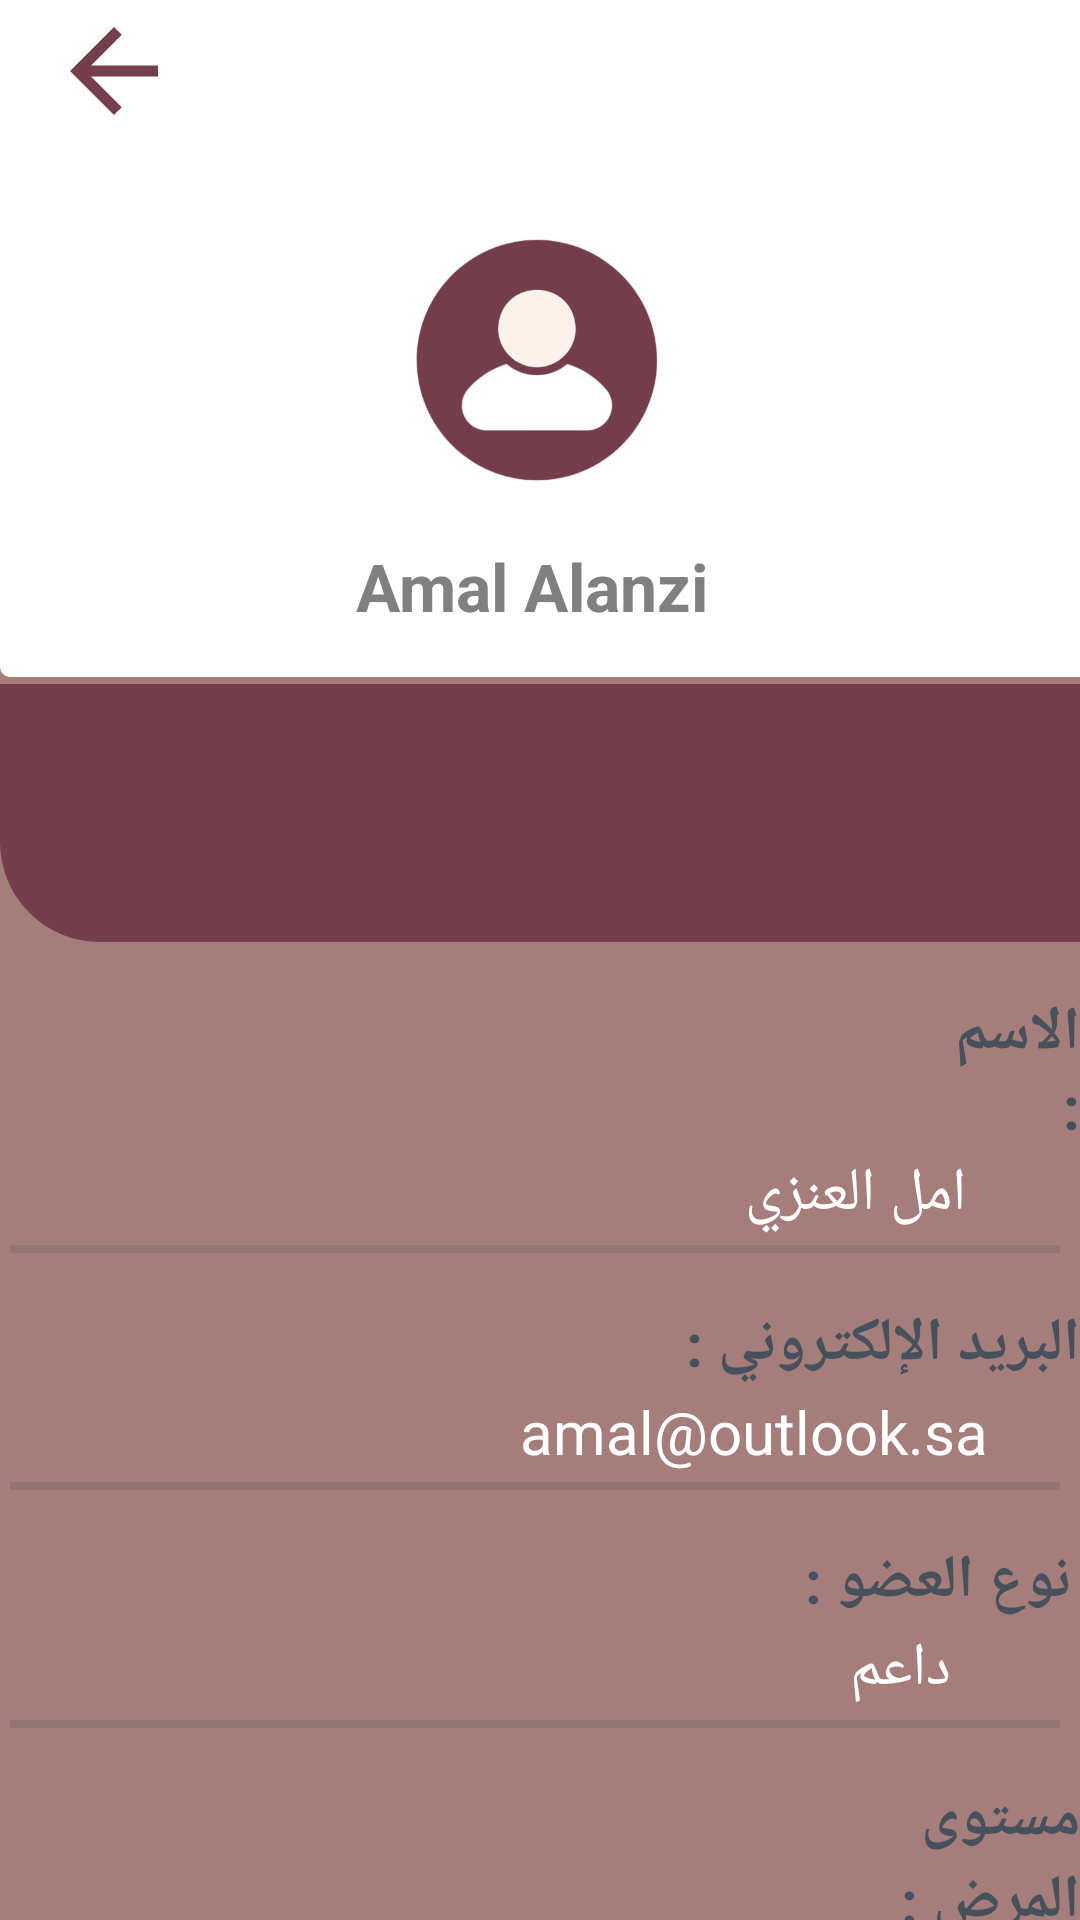

Icon bounding boxes for this 1080px×1920px phone screenshot, format (x1, y1, x2, y2):
arrow back: (70, 27, 158, 115)
profile: (416, 239, 657, 481)
